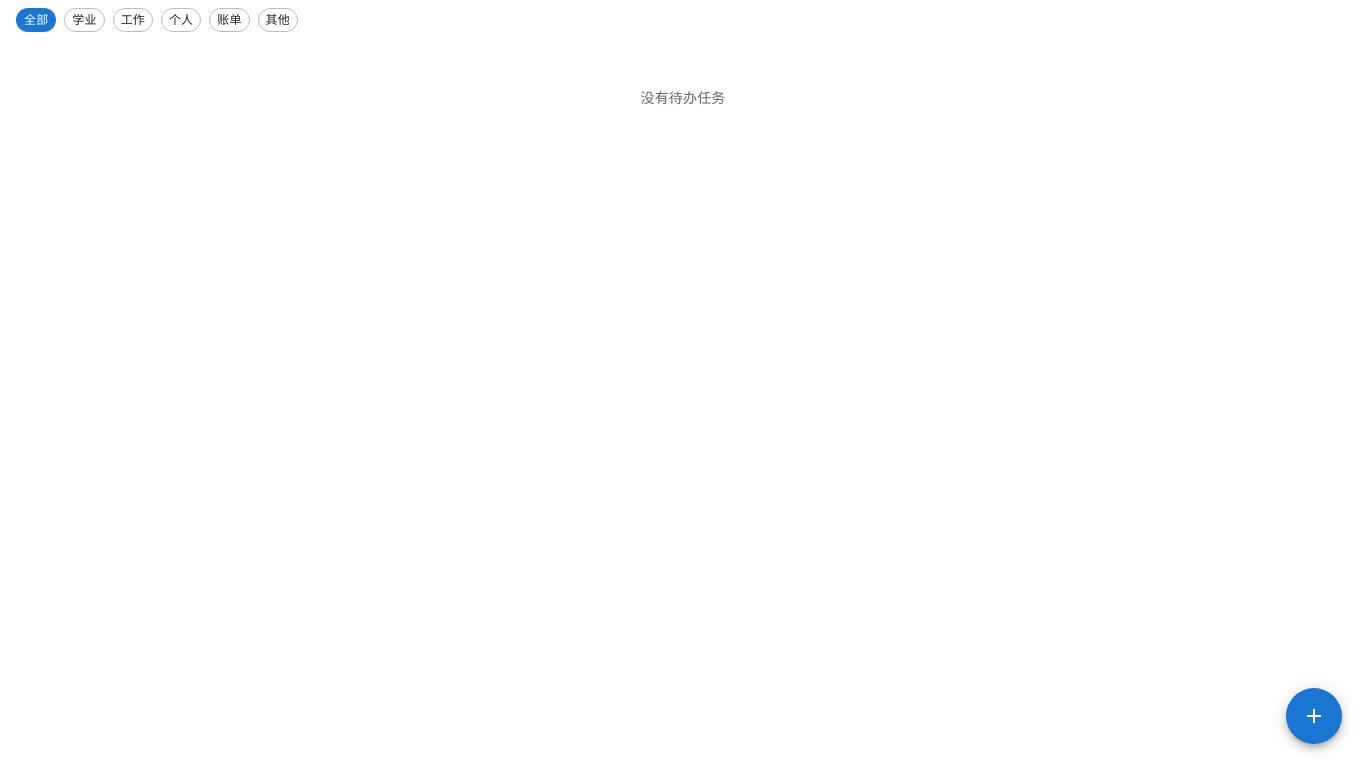
it: 速记模式：真实对话框 × 真实页面闭环 › 点「解析」打 /api/items/quick 不打 /parse：关窗、Snackbar 带「查看」、新条目上列表
Step 1. Click the button named "新建待办" → click(1314, 716), box [1286,688,1342,744]
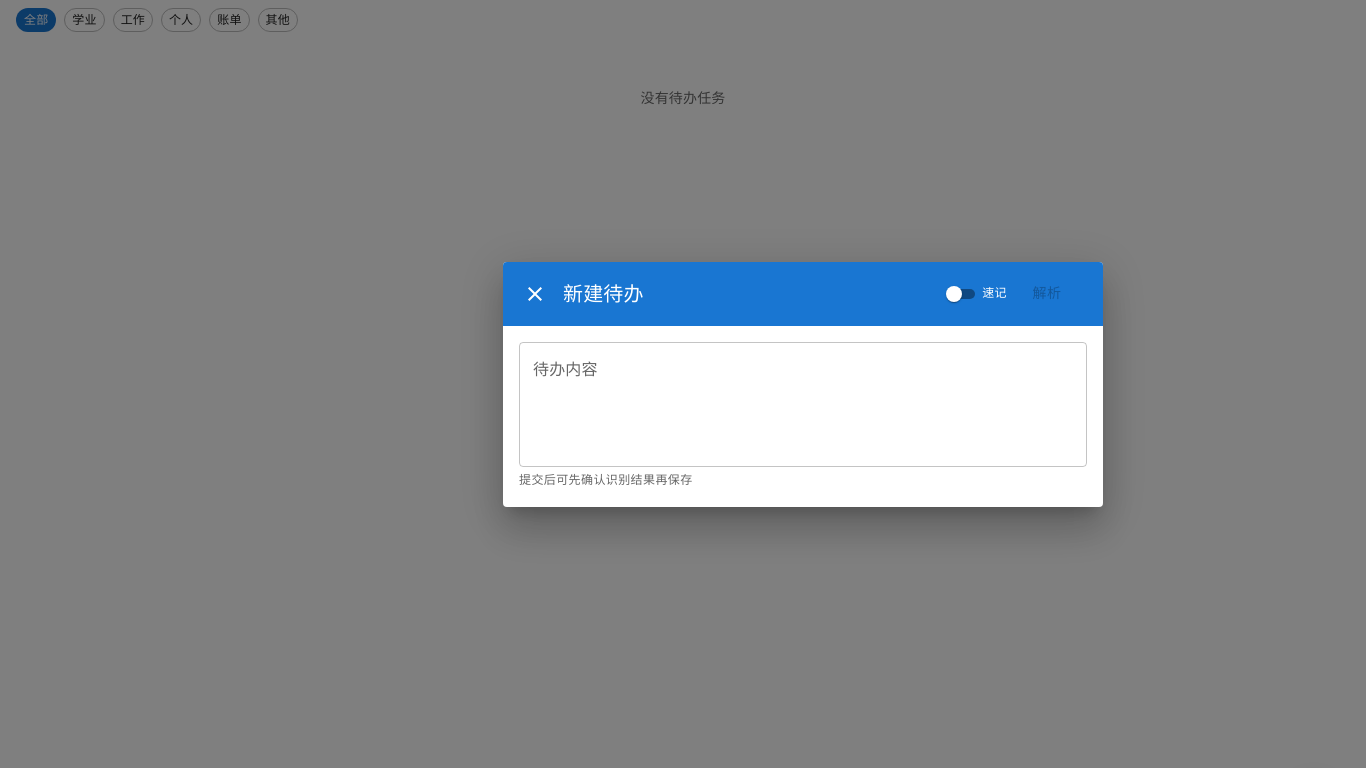
Now the text box labelled "待办内容" is shown, box [533,358,1073,450]
Step 2. Click the switch named "速记模式" → click(975, 294), box [942,282,1007,306]
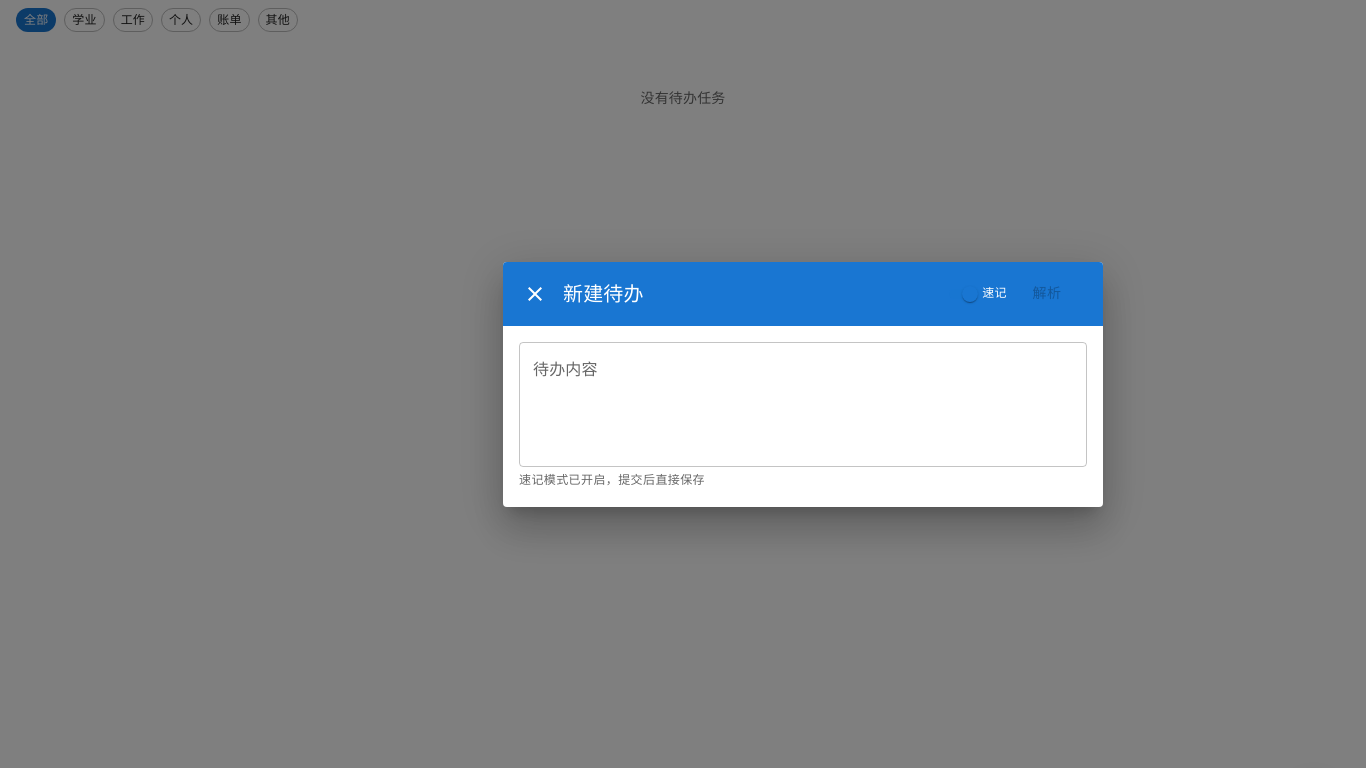
Now the text "速记模式已开启，提交后直接保存" is shown, box [519,472,705,486]
Step 3. Type "明天提醒我去把空调修了" into the text box labelled "待办内容" → (803, 404), box [533,358,1073,450]
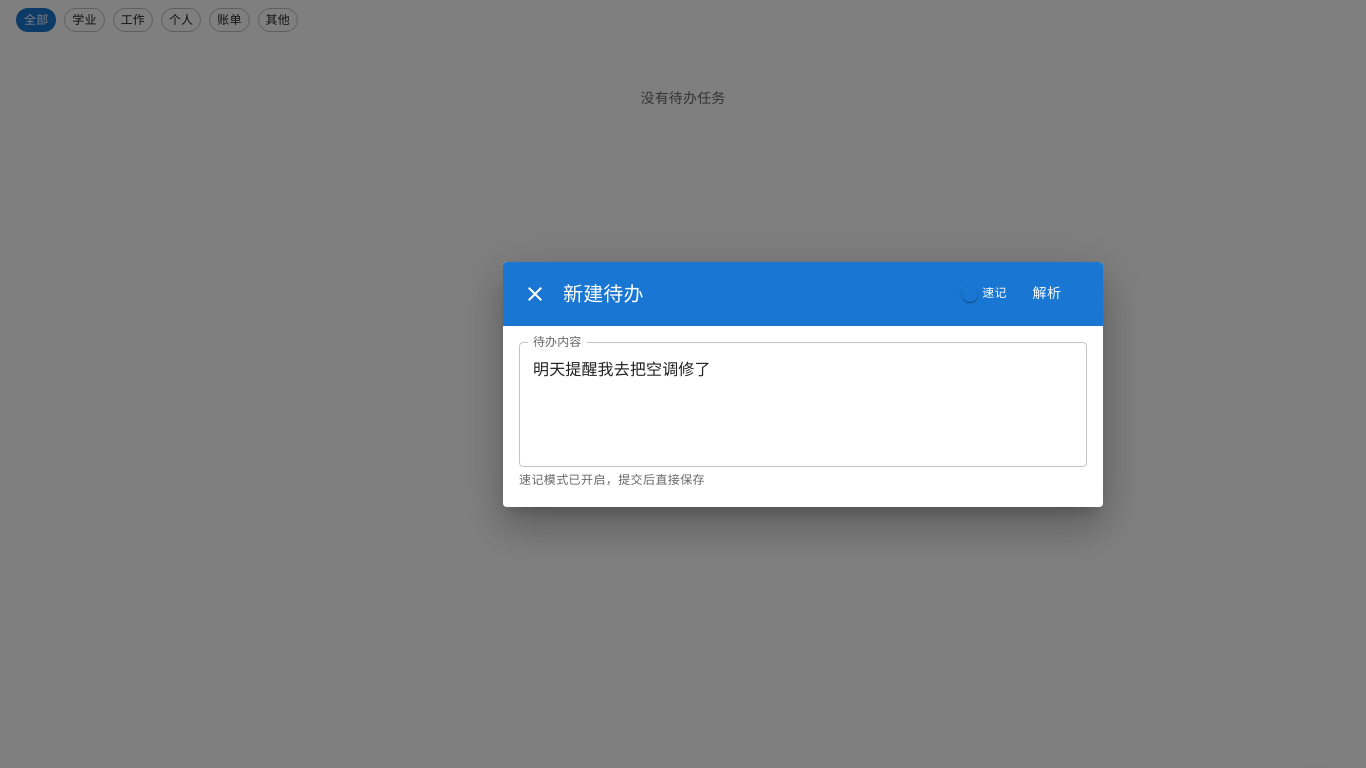
Step 4. Click the button "解析" → click(1047, 294), box [1015,275,1079,312]
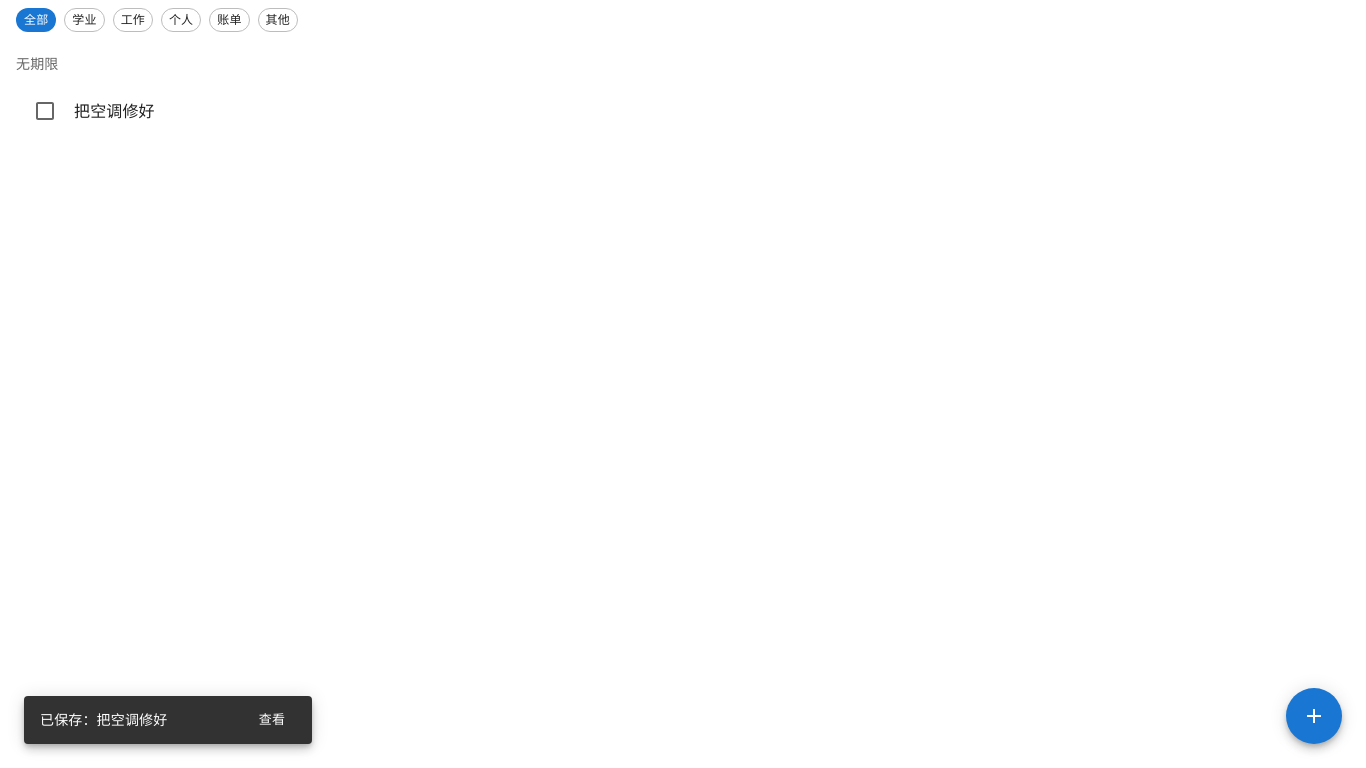
Now the label labelled "待办内容" is gone
Now the text "已保存：把空调修好" is shown, box [40,712,167,728]
Now the button "查看" is shown, box [240,705,304,735]
